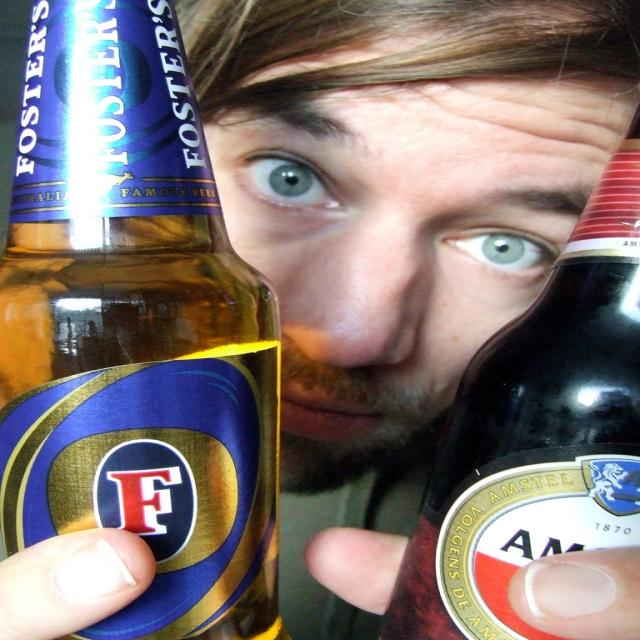fosters: (48, 428, 239, 573)
